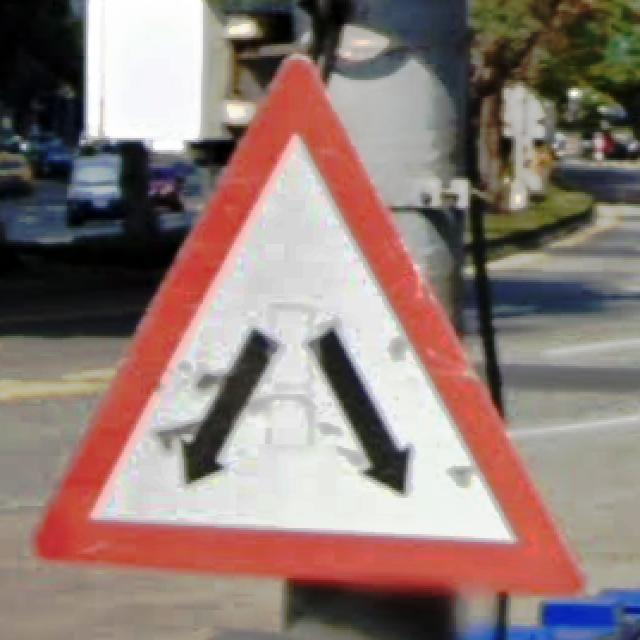diverge: (33, 56, 592, 600)
